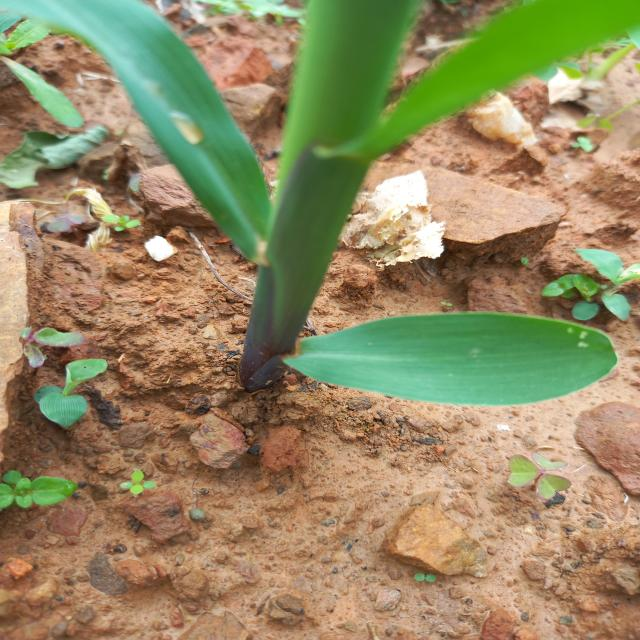maize: (150, 0, 534, 429)
weed: (17, 328, 128, 443), (544, 243, 640, 336), (0, 464, 134, 517), (508, 458, 591, 510)
